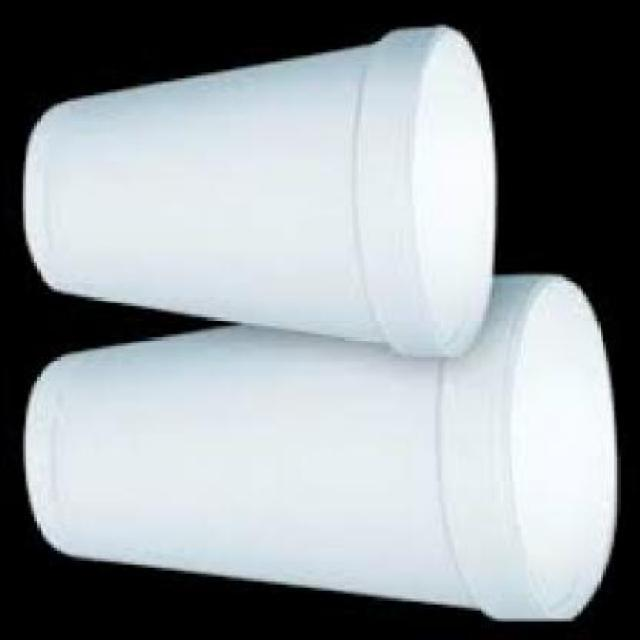PAPER: (26, 264, 620, 618), (28, 17, 501, 352)
